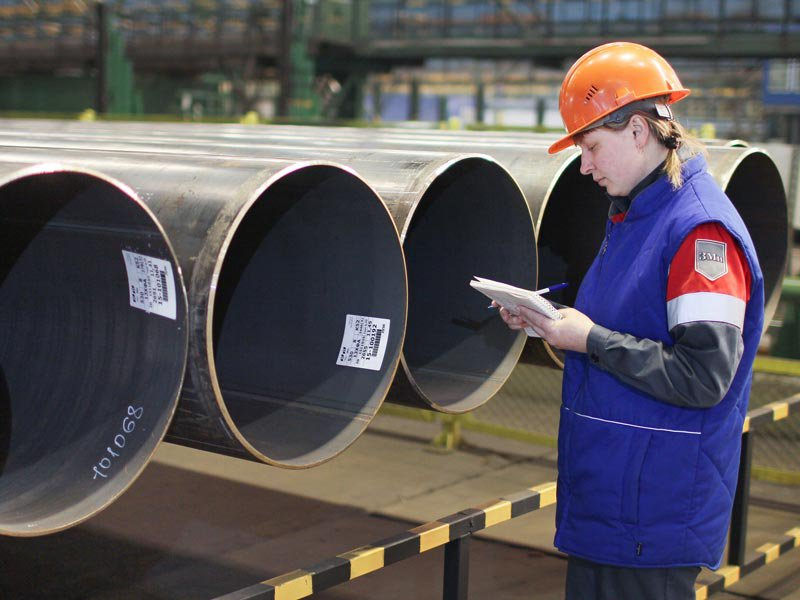person: (445, 42, 765, 600)
